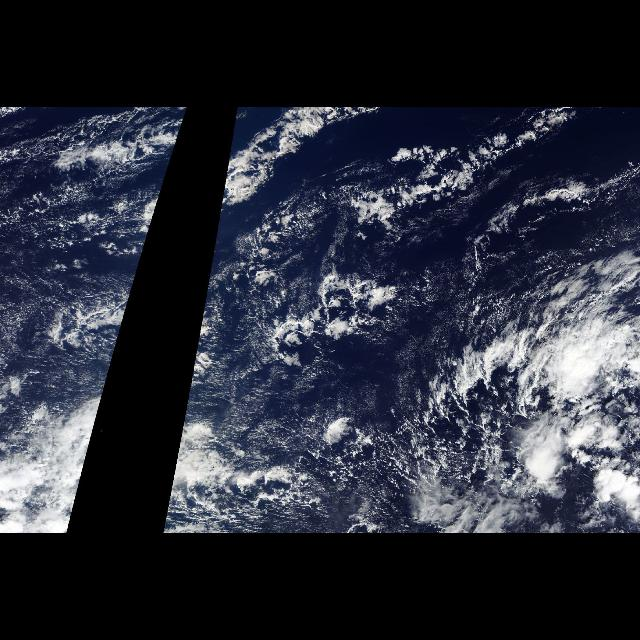Fish: (382, 332, 640, 498)
Sugar: (13, 269, 139, 407), (186, 269, 274, 407)
